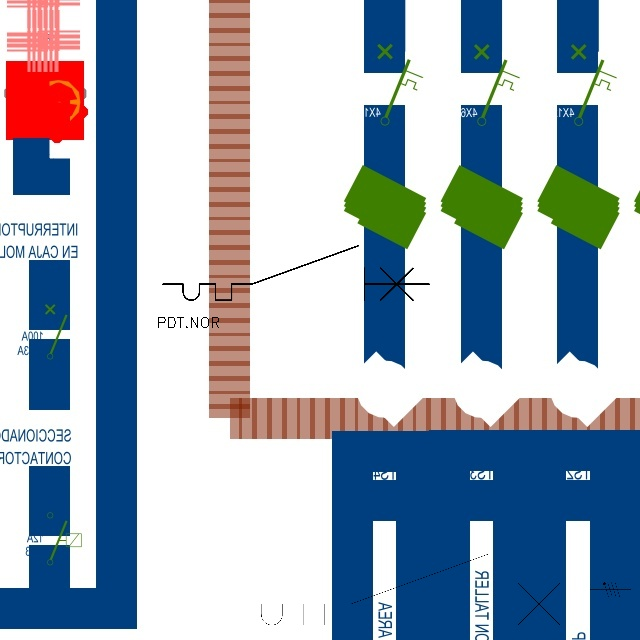interruptor_termomagnetico: (226, 545, 589, 634), (156, 239, 436, 307)
